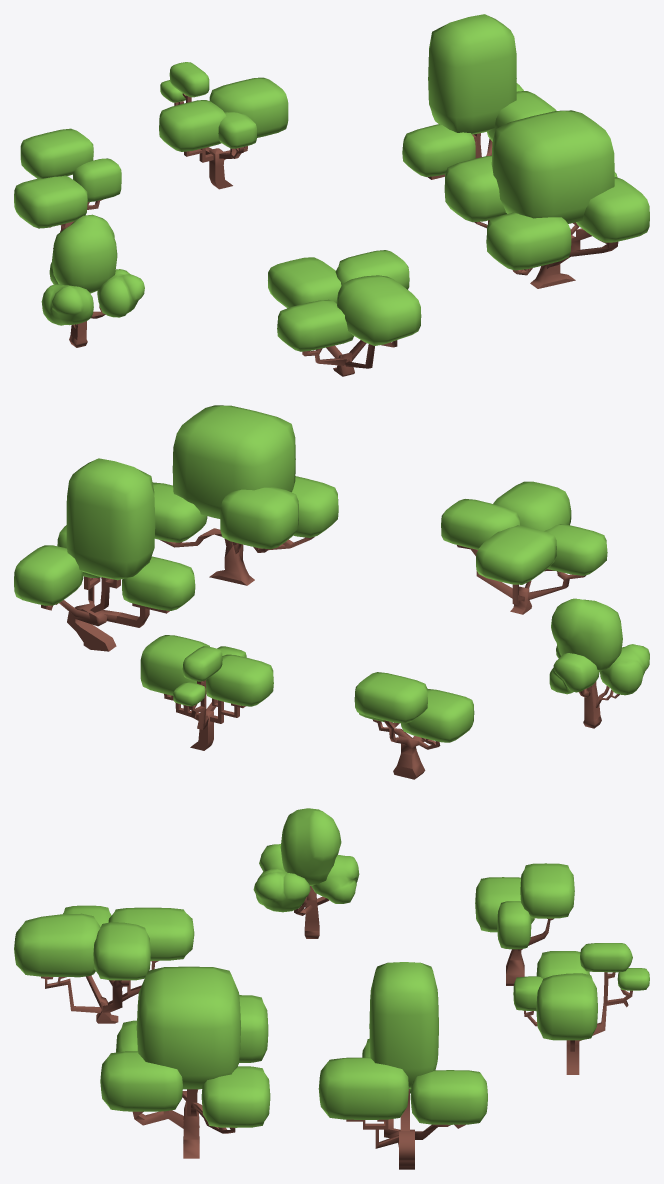
Rendered from shrubs_01.fbx.
3 renders of one model, top to bottom at view 1: azimuth 30°, elevation 25°; view 2: azimuth 150°, elevation 25°; view 3: azimuth 270°, elevation 25°, orthographic. The views are drawn at different scales.
Parts seen in each view (by area): view 1: trees_03:Layer5, trees_03:Layer6, trees_03:Layer4, trees_03:Layer3, trees_03:Layer1, trees_03:Layer2; view 2: trees_03:Layer5, trees_03:Layer4, trees_03:Layer6, trees_03:Layer3, trees_03:Layer1, trees_03:Layer2; view 3: trees_03:Layer5, trees_03:Layer4, trees_03:Layer6, trees_03:Layer3, trees_03:Layer1, trees_03:Layer2.
Part boxes in pixels (x1,y1,x2,y2): trees_03:Layer5: (444, 110, 649, 288); trees_03:Layer6: (268, 250, 421, 376); trees_03:Layer4: (402, 14, 556, 179); trees_03:Layer3: (159, 62, 288, 189); trees_03:Layer1: (41, 214, 144, 347); trees_03:Layer2: (14, 128, 121, 248); trees_03:Layer5: (152, 405, 338, 585); trees_03:Layer4: (14, 458, 195, 651); trees_03:Layer6: (441, 481, 607, 614); trees_03:Layer3: (140, 635, 273, 750); trees_03:Layer1: (549, 598, 649, 728); trees_03:Layer2: (354, 672, 474, 779); trees_03:Layer5: (100, 966, 270, 1158); trees_03:Layer4: (318, 962, 487, 1169); trees_03:Layer6: (14, 905, 194, 1023); trees_03:Layer3: (513, 943, 649, 1074); trees_03:Layer1: (253, 808, 359, 938); trees_03:Layer2: (475, 863, 574, 985).
Bounding box in the file's own units: 8356 × 2700 × 8035.
